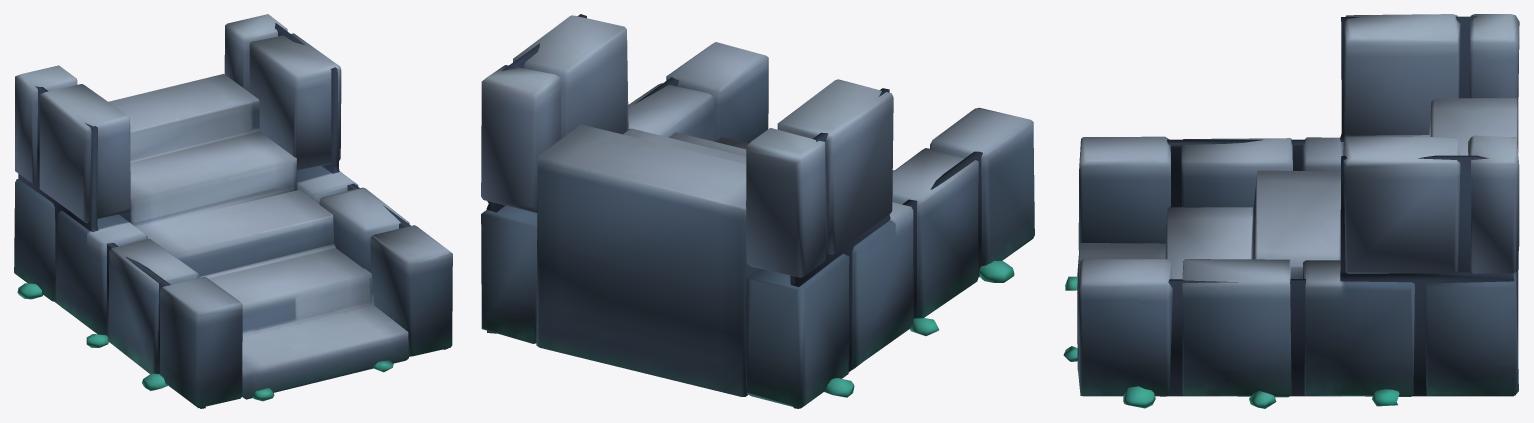
File: stairs.glb
The picture shows the model from 3 angles, left to right: view 1: azimuth 30°, elevation 25°; view 2: azimuth 150°, elevation 25°; view 3: azimuth 270°, elevation 25°; orthographic projection. The views are drawn at different scales.
Parts seen in each view (by area): view 1: mortar; view 2: mortar; view 3: mortar.
Part boxes in pixels (<box>): mortar: <box>14,14,452,408</box>; mortar: <box>481,14,1034,408</box>; mortar: <box>1063,14,1519,408</box>.
Bounding box in the file's own units: 1.8 × 1.2 × 2.06.
Materials: 1 (1 with a texture image).
